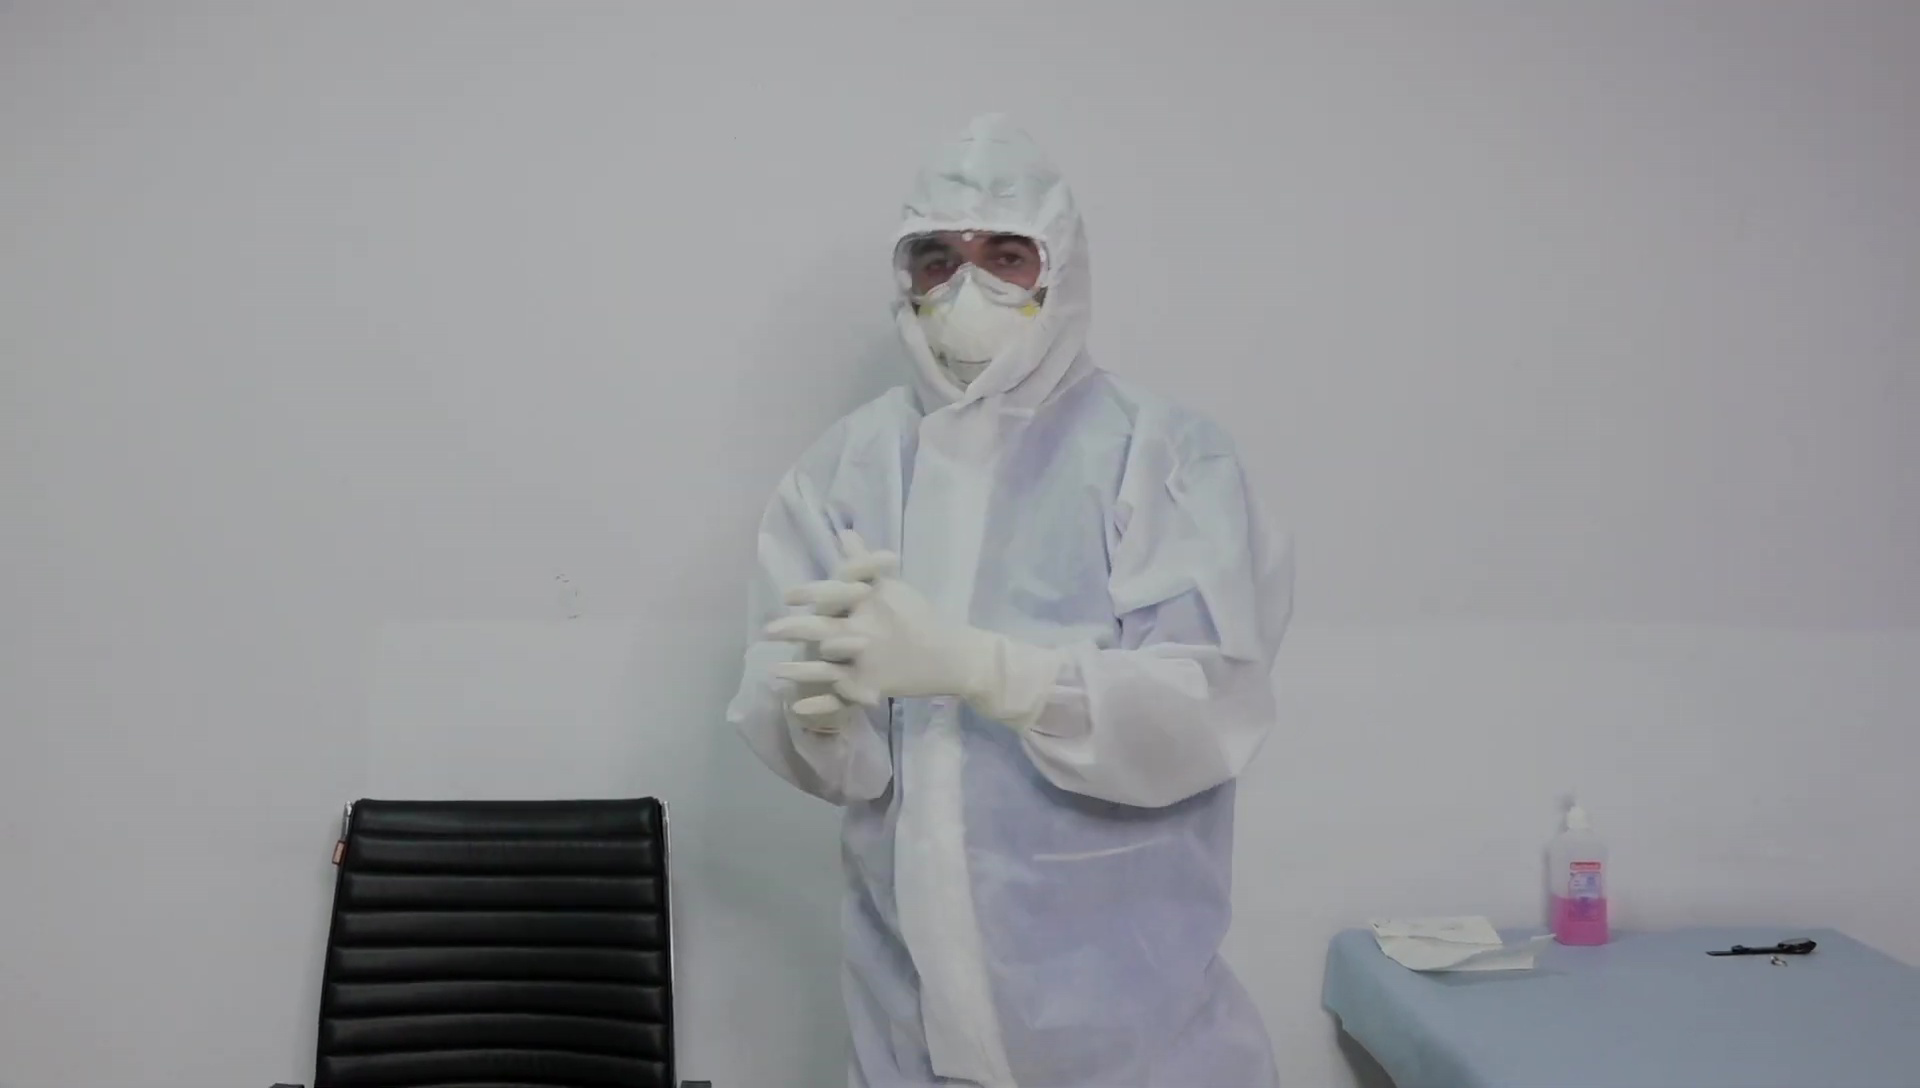Coverall: (724, 112, 1292, 1085)
Gloves: (764, 528, 1001, 713), (805, 549, 897, 728)
Goggles: (891, 226, 1050, 312)
with_mask: (904, 243, 1040, 388)
